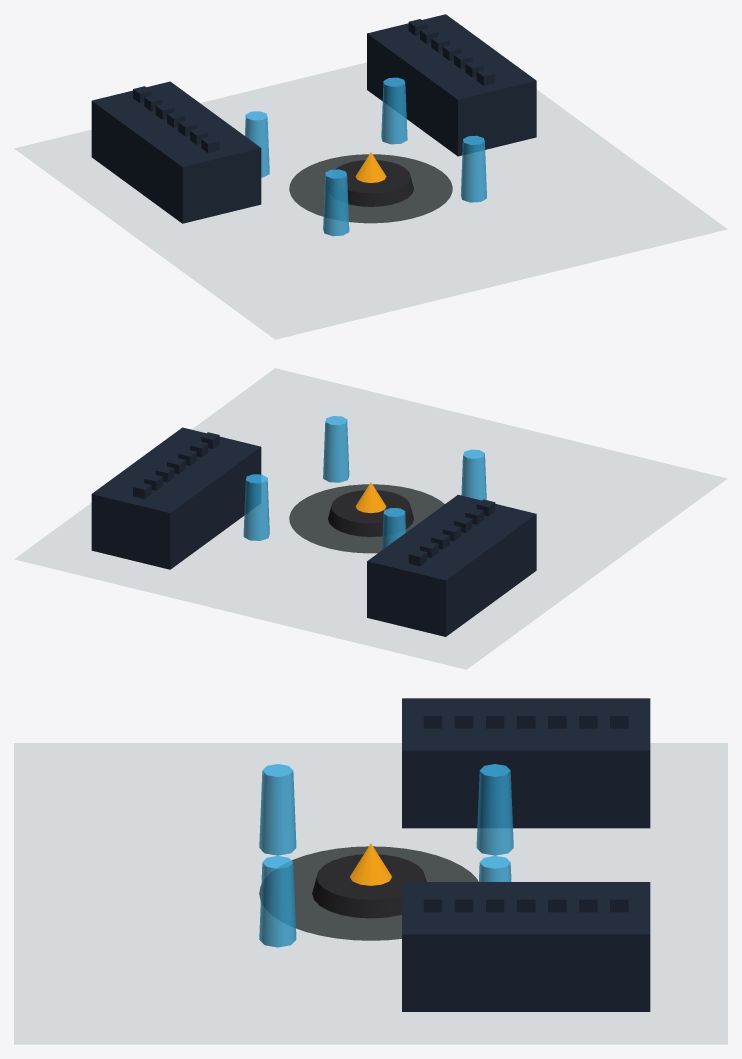
The model's file is dev_01.glb.
3 views of the same model, one above another, from view 1: azimuth 30°, elevation 25°; view 2: azimuth 150°, elevation 25°; view 3: azimuth 270°, elevation 25° (orthographic). The views are drawn at different scales.
Parts seen in each view (by area): view 1: scenario_base_floor, DEV_01, devias_thawed_stone, devias_battlements, devias_brazier_flame; view 2: scenario_base_floor, DEV_01, devias_thawed_stone, devias_battlements, devias_brazier_flame; view 3: scenario_base_floor, DEV_01, devias_thawed_stone, devias_battlements, devias_brazier_flame.
Boxes of the visible parts, bbox=[...] form: scenario_base_floor: bbox=[14, 62, 727, 339]; DEV_01: bbox=[91, 14, 536, 236]; devias_thawed_stone: bbox=[289, 154, 452, 223]; devias_battlements: bbox=[133, 19, 495, 152]; devias_brazier_flame: bbox=[355, 152, 386, 182]; scenario_base_floor: bbox=[14, 368, 727, 669]; DEV_01: bbox=[91, 416, 536, 636]; devias_thawed_stone: bbox=[289, 484, 444, 553]; devias_battlements: bbox=[133, 432, 495, 566]; devias_brazier_flame: bbox=[355, 482, 386, 513]; scenario_base_floor: bbox=[14, 743, 727, 1044]; DEV_01: bbox=[259, 698, 650, 1011]; devias_thawed_stone: bbox=[259, 846, 478, 940]; devias_battlements: bbox=[423, 708, 628, 912]; devias_brazier_flame: bbox=[350, 843, 391, 885].
Size of the model in its own units: 46 by 6.4 by 46.
